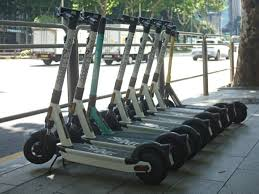kick_body: (64, 144, 125, 169)
kick_handler: (56, 7, 79, 28), (113, 14, 138, 31), (83, 12, 101, 31), (165, 23, 175, 34)
kick_wheel: (134, 140, 168, 184), (24, 128, 54, 164), (161, 133, 190, 169), (177, 126, 201, 159), (233, 101, 248, 122)
